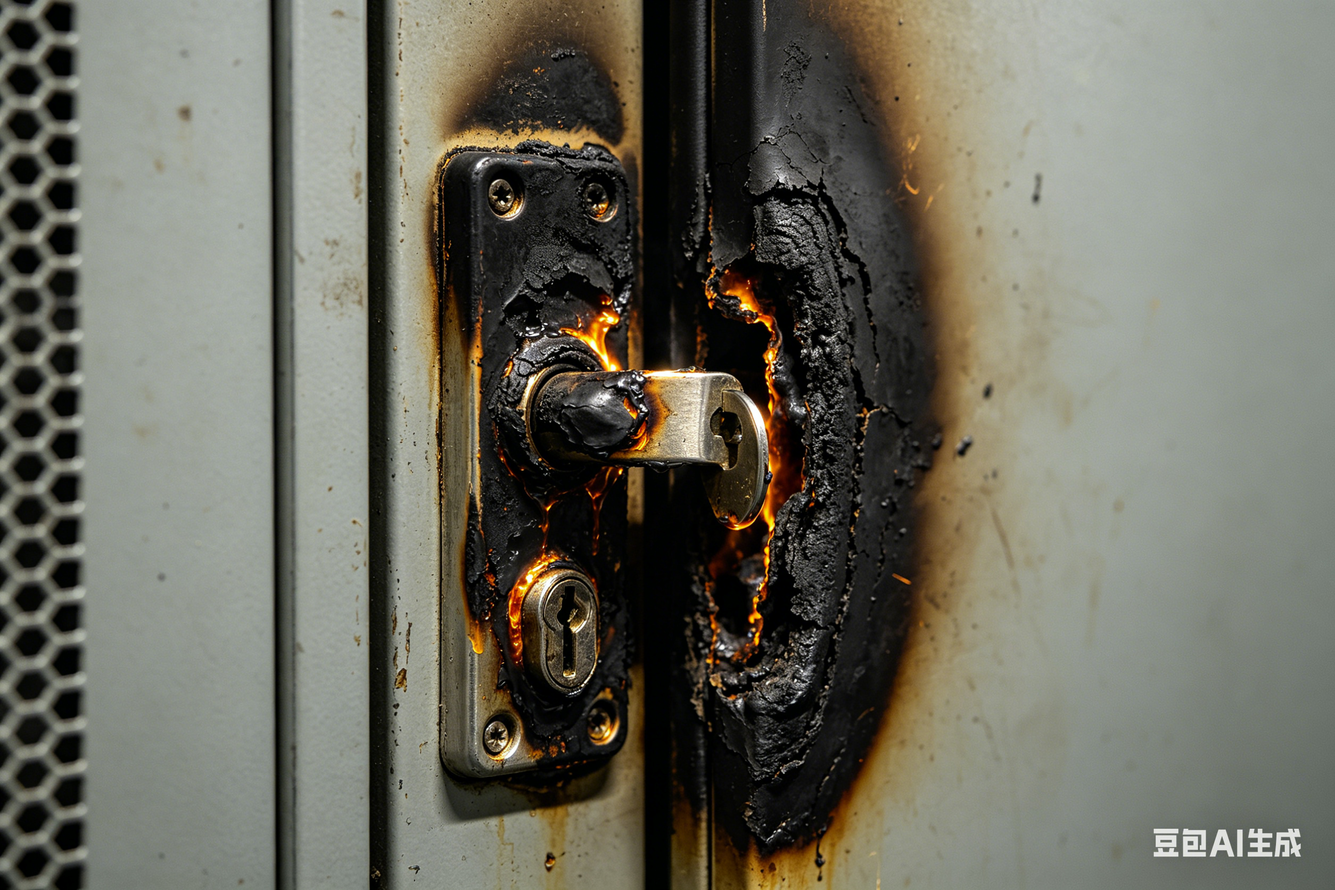BadLock: (473, 272, 809, 530)
